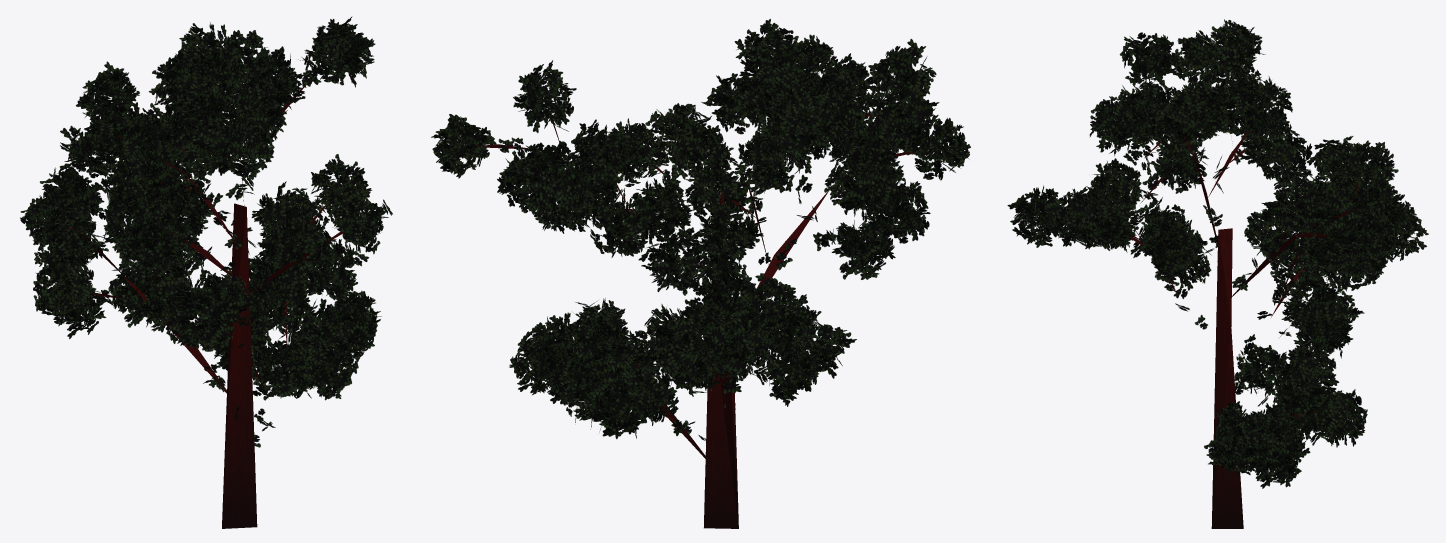
The model's file is evergreen_broad_v02_LOD1.glb.
3 renders of one model, left to right at view 1: azimuth 30°, elevation 25°; view 2: azimuth 150°, elevation 25°; view 3: azimuth 270°, elevation 25°, orthographic. The views are drawn at different scales.
Parts seen in each view (by area): view 1: evergreen_broad_v02_LOD1; view 2: evergreen_broad_v02_LOD1; view 3: evergreen_broad_v02_LOD1.
Boxes of the visible parts, x1,y1,x2,y2 form: evergreen_broad_v02_LOD1: (20, 16, 392, 528); evergreen_broad_v02_LOD1: (431, 18, 970, 528); evergreen_broad_v02_LOD1: (1007, 19, 1428, 528).
Size of the model in its own units: 20.03 by 23.42 by 20.01.
Materials: 2 (2 with a texture image).
